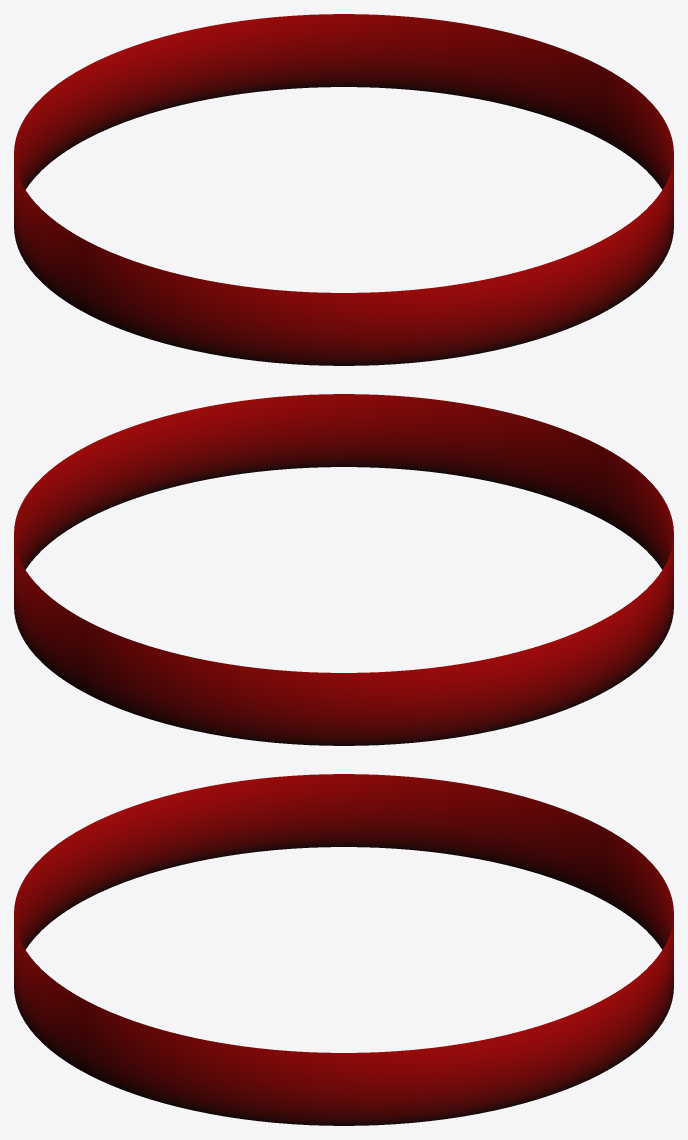
Rendered from DamageZone.fbx.
3 renders of one model, top to bottom at view 1: azimuth 30°, elevation 25°; view 2: azimuth 150°, elevation 25°; view 3: azimuth 270°, elevation 25°, orthographic.
Parts seen in each view (by area): view 1: DamageZone; view 2: DamageZone; view 3: DamageZone.
Part boxes in pixels (x1,y1,x2,y2): DamageZone: [14, 14, 673, 365]; DamageZone: [14, 394, 673, 745]; DamageZone: [14, 774, 673, 1125].
Bounding box in the file's own units: 123729 × 15094 × 123729.
